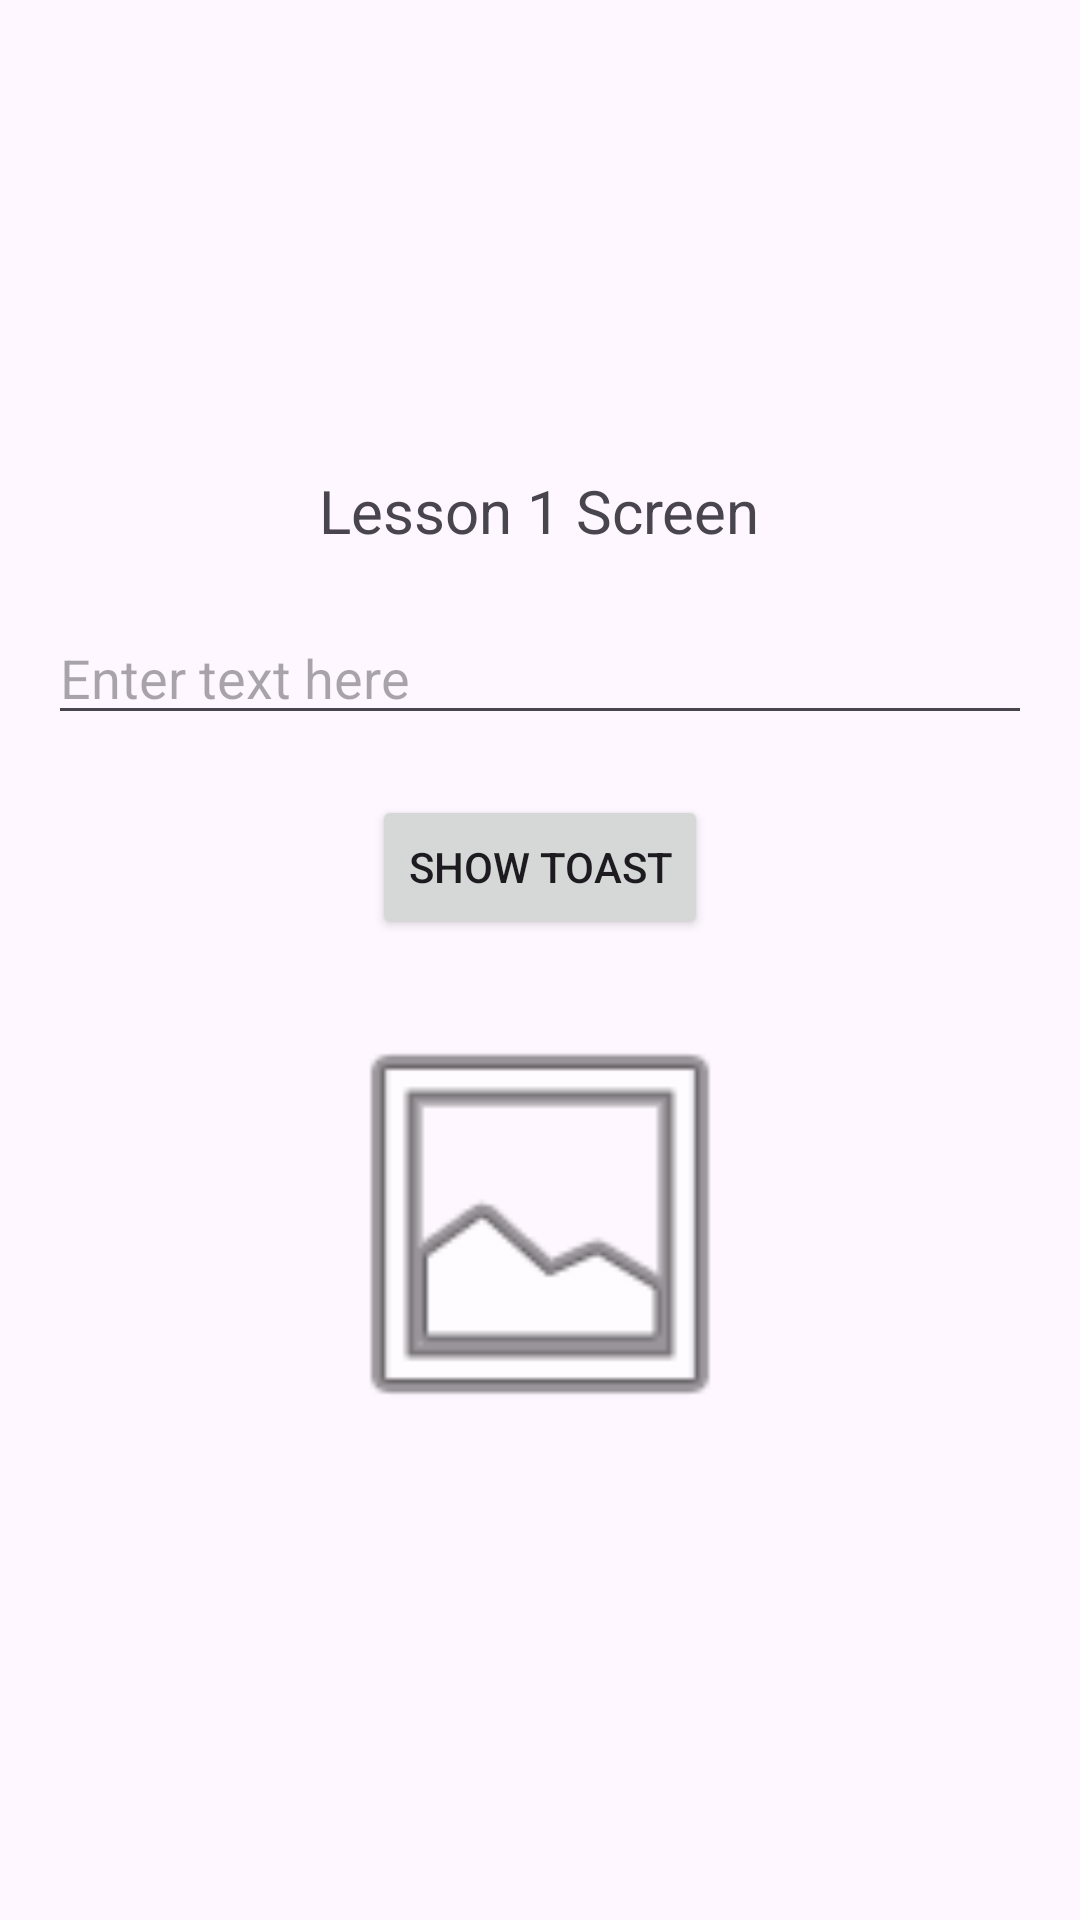

Where to tap for icons on this 1080*1920 app screen, as (x=x, y=y):
Sample Image: (x=540, y=1224)
